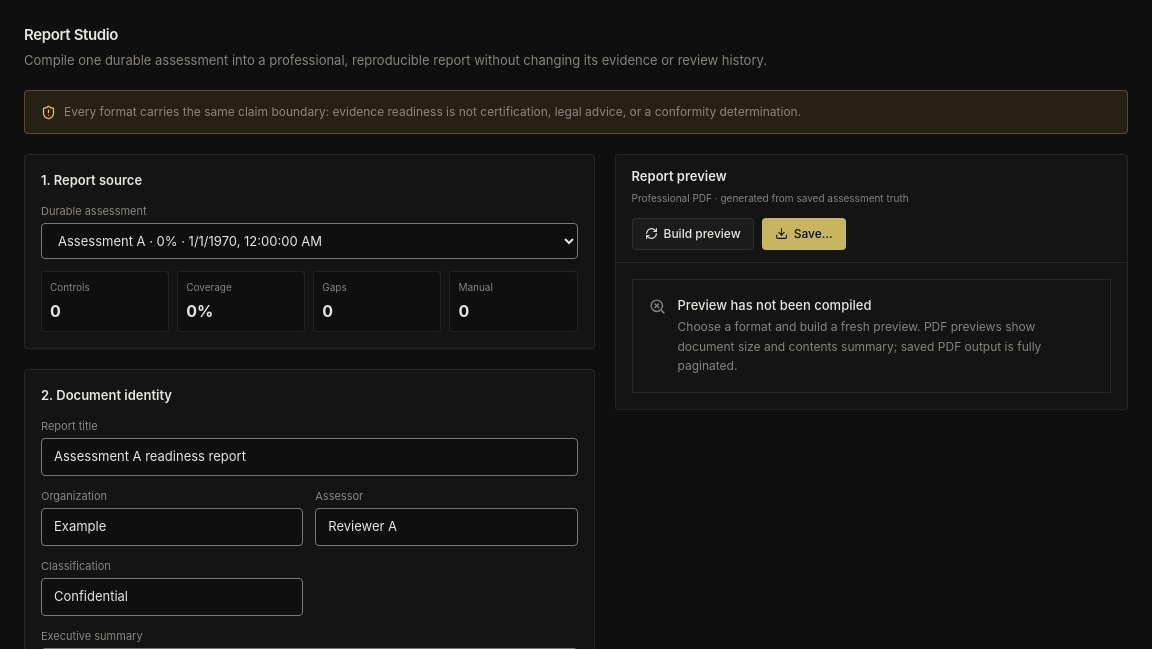
Test case: a submitted save does not mark changed metadata inputs as saved
Click the button "Save…": (804, 234) top-left (762, 218), bottom-right (846, 250)
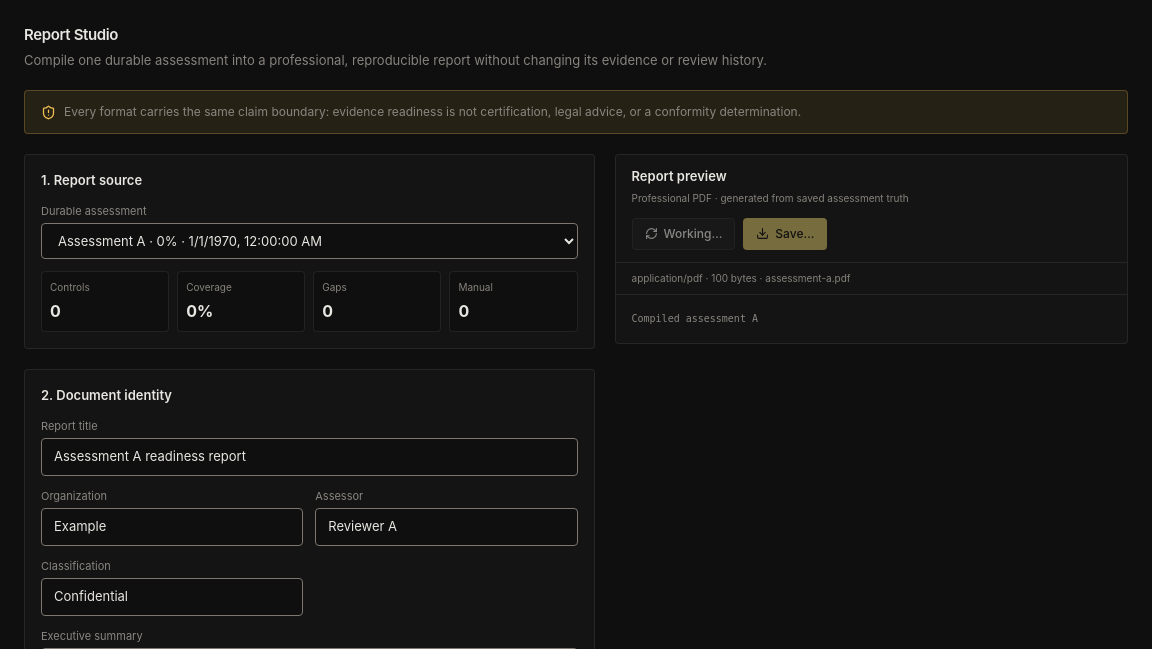
Replace the text in the field labelled "Report title" with "Unsaved title": (309, 457) top-left (41, 438), bottom-right (578, 476)
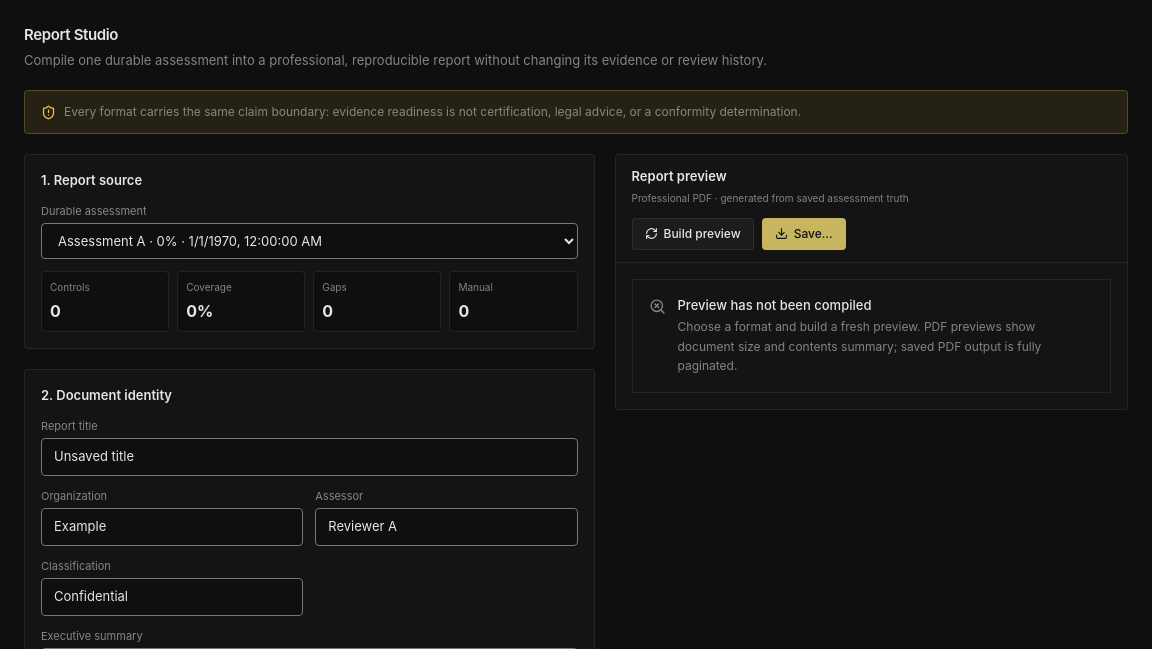
Result: the button "Save…" is enabled at top-left (762, 218), bottom-right (846, 250)
